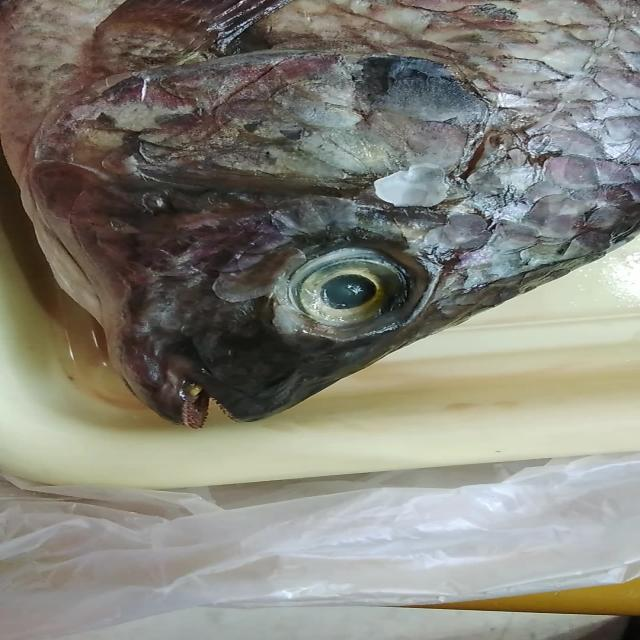Non-Fresh: (22, 2, 632, 204), (268, 223, 441, 350)
